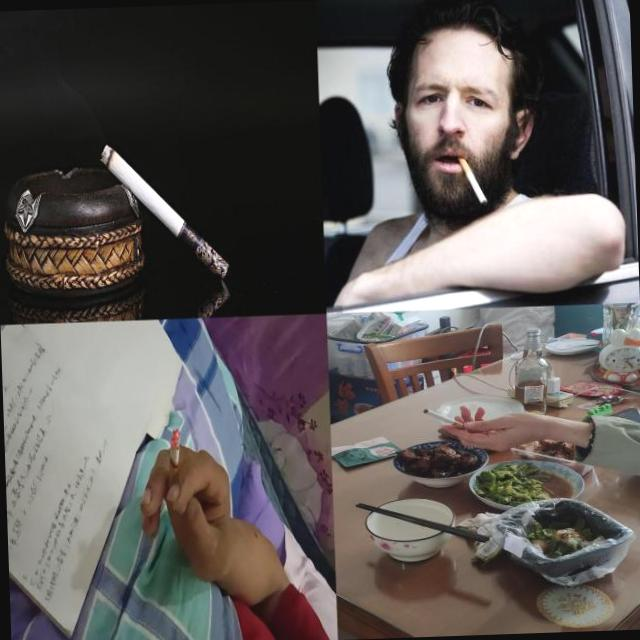cigarette: (100, 138, 230, 284), (444, 136, 494, 207), (165, 427, 183, 496), (422, 406, 468, 431)
